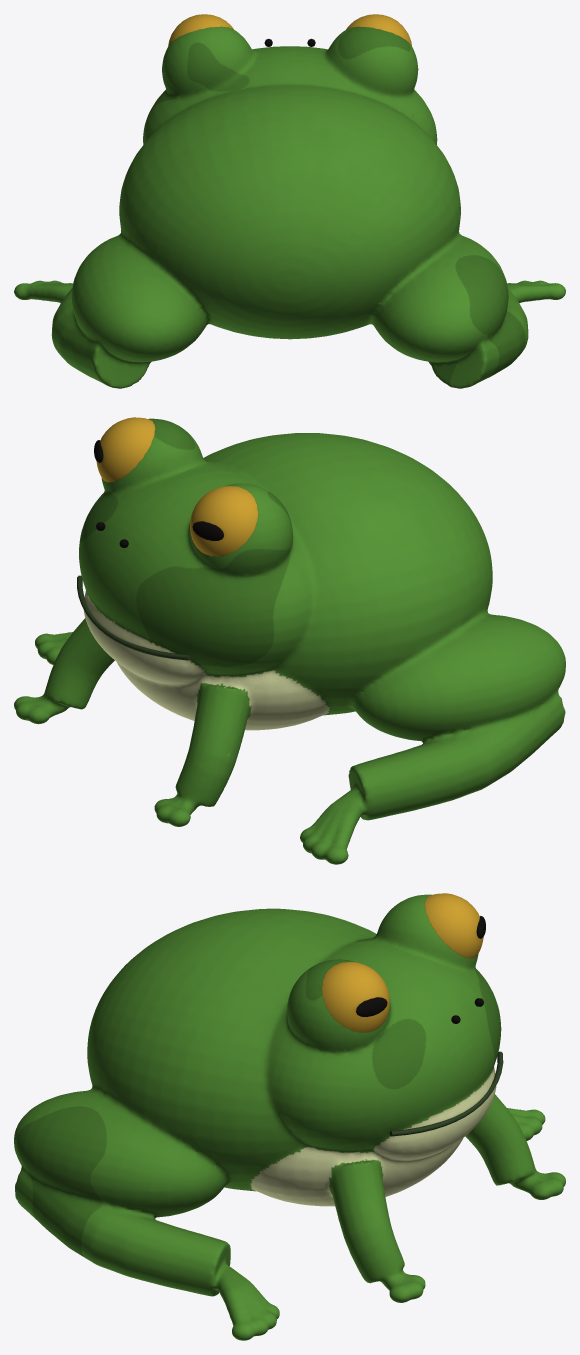
Rendered from piece_frog.fbx.
The picture shows the model from 3 angles, top to bottom: view 1: azimuth 30°, elevation 25°; view 2: azimuth 150°, elevation 25°; view 3: azimuth 270°, elevation 25°; orthographic projection. The views are drawn at different scales.
Parts seen in each view (by area): view 1: piece_frog; view 2: piece_frog; view 3: piece_frog.
Boxes of the visible parts, box(x1,y1,x2,y2) form: piece_frog: box(14, 14, 565, 388); piece_frog: box(14, 417, 565, 864); piece_frog: box(14, 893, 565, 1340).
Size of the model in its own units: 0.2315 by 0.129 by 0.2121.
